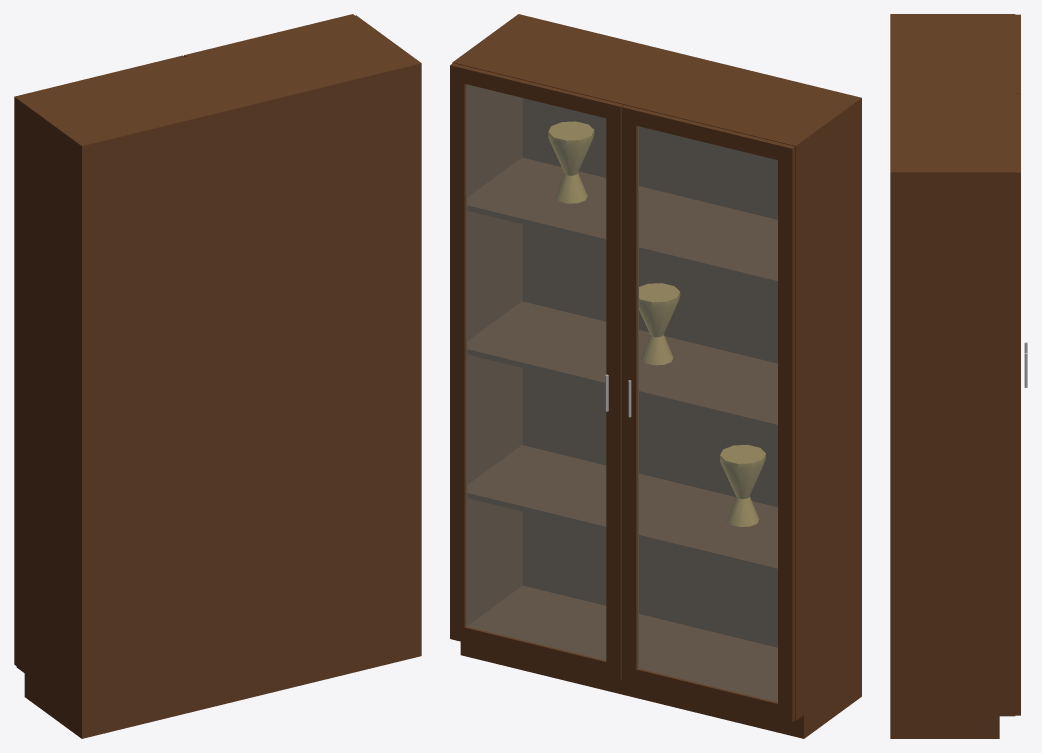
Rendered from school.hall.trophy_cabinet.glb.
3 views of the same model, side by side, from view 1: azimuth 30°, elevation 25°; view 2: azimuth 150°, elevation 25°; view 3: azimuth 270°, elevation 25° (orthographic). The views are drawn at different scales.
Parts seen in each view (by area): view 1: main__hardwood; view 2: main__hardwood, main__glass, main__brass; view 3: main__hardwood.
Boxes of the visible parts, x1,y1,x2,y2 form: main__hardwood: (14, 14, 421, 738); main__hardwood: (450, 14, 861, 738); main__glass: (466, 84, 777, 702); main__brass: (548, 121, 765, 526); main__hardwood: (890, 14, 1020, 738).
Bounding box in the file's own units: 1.2 × 2 × 0.44.
